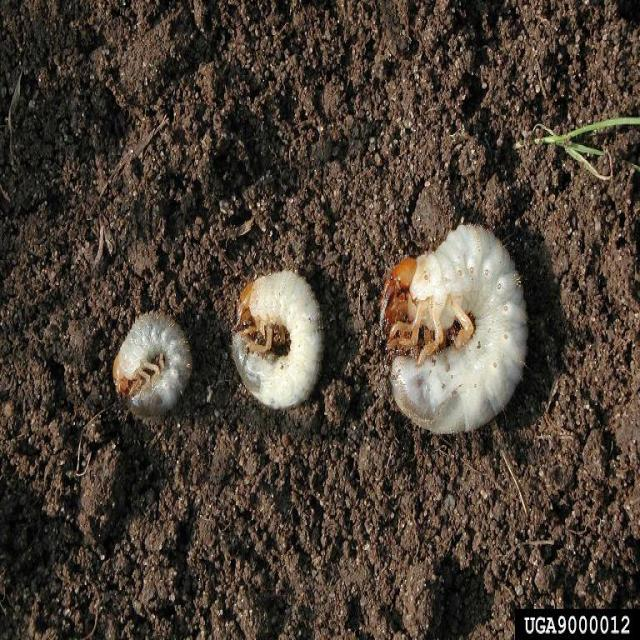Grub-Adult-: (371, 217, 538, 449), (218, 272, 325, 418), (106, 281, 194, 443)
